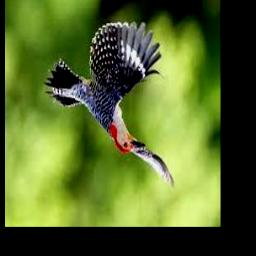Woodpecker: (45, 22, 174, 190)
